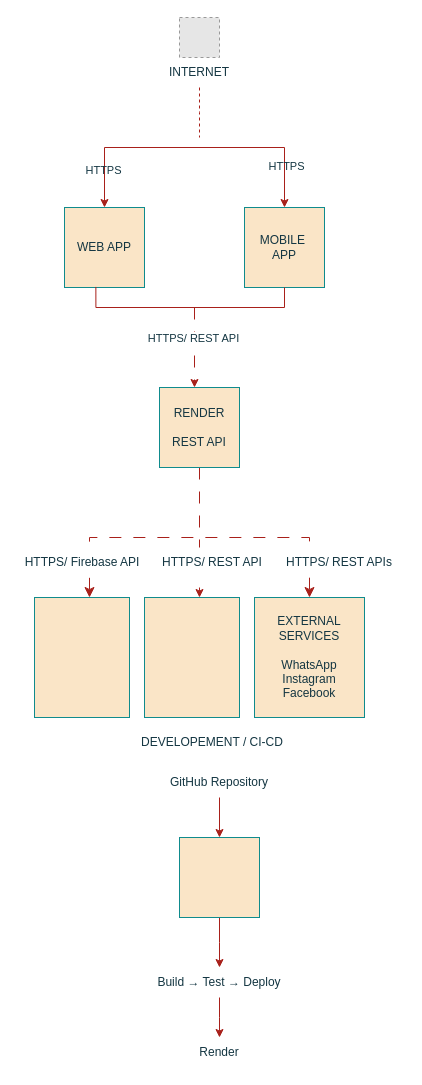
Image size: 422x1085. Some labels were removed from this diagram. Grey dashed boxes stand in for pictures. The box of each missing label's shape, as (x1, y1, x2, y2) in pixels:
FIREBASE Auth Firestore Storage: (34, 596, 130, 718)
GitHub Actions: (178, 836, 260, 918)
PAYMENT GATEWAY 50% Deposit: (144, 596, 240, 718)
